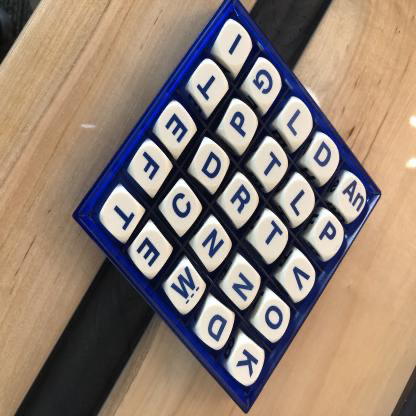an: (338, 179, 369, 220)
c: (167, 187, 201, 231)
d: (196, 143, 231, 187), (201, 307, 234, 353), (307, 140, 341, 182)
e: (133, 229, 171, 278), (159, 109, 193, 154)
f: (135, 148, 169, 191)
g: (249, 64, 283, 108)
i: (219, 29, 249, 67)
k: (232, 341, 266, 385)
l: (281, 102, 313, 145), (285, 183, 316, 223)
n: (198, 226, 230, 269), (228, 267, 260, 309)
o: (260, 301, 291, 343)
p: (226, 105, 258, 145), (313, 219, 343, 258)
r: (226, 181, 259, 225)
t: (255, 219, 290, 265), (106, 195, 140, 242), (192, 65, 225, 109), (255, 145, 288, 187)
v: (285, 260, 315, 302)
w: (169, 267, 205, 313)
